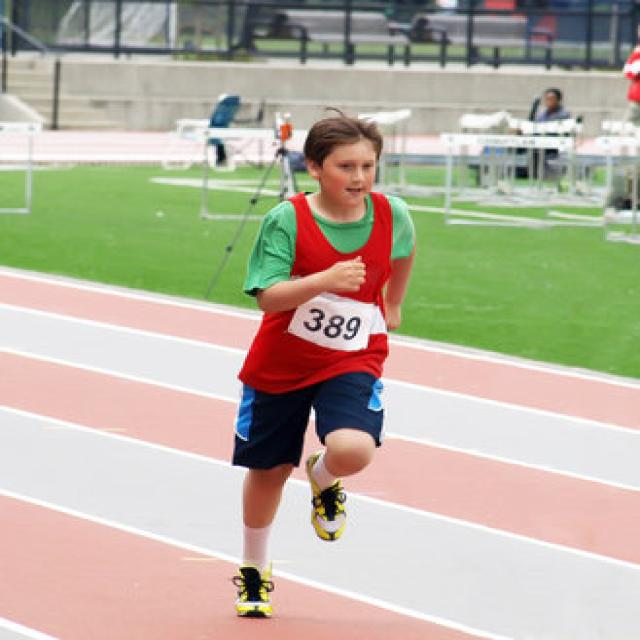Person: (230, 113, 418, 617)
